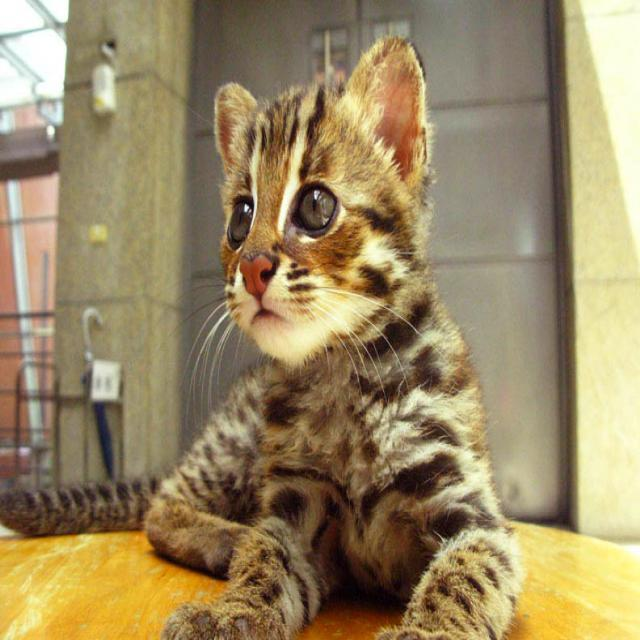leopard: (220, 54, 490, 576)
